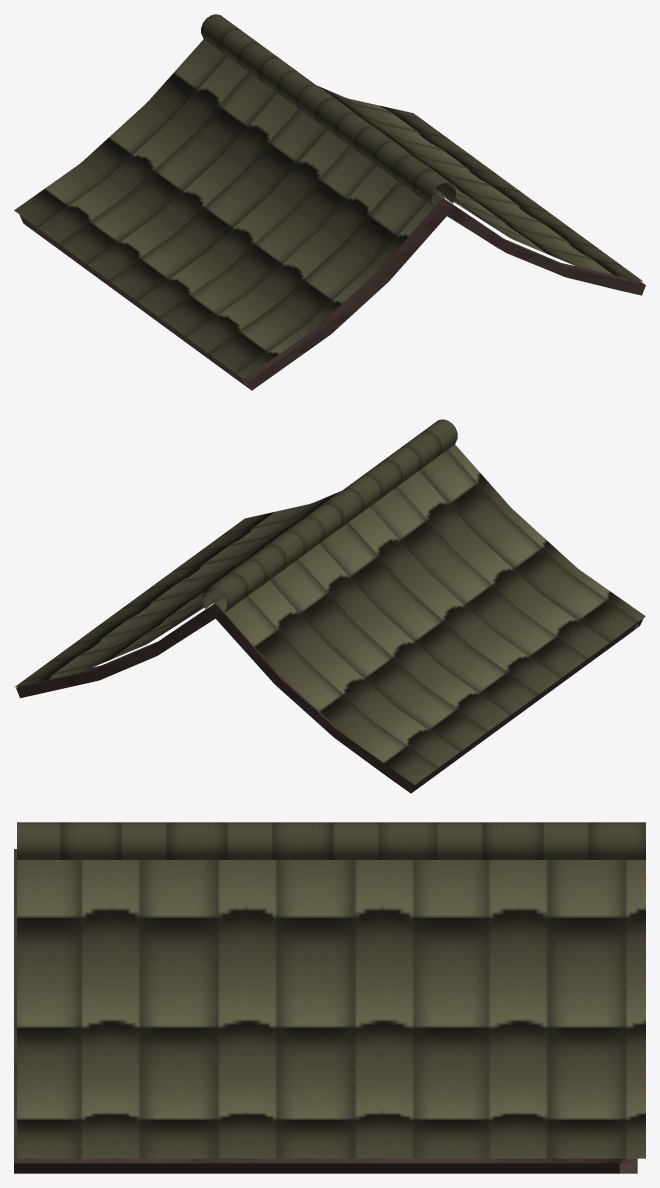
The model's file is NNJ0510062.fbx.
3 views of the same model, one above another, from view 1: azimuth 30°, elevation 25°; view 2: azimuth 150°, elevation 25°; view 3: azimuth 270°, elevation 25° (orthographic). The views are drawn at different scales.
Parts seen in each view (by area): view 1: smNNJ0510062; view 2: smNNJ0510062; view 3: smNNJ0510062.
Boxes of the visible parts, x1,y1,x2,y2 form: smNNJ0510062: [14, 14, 645, 390]; smNNJ0510062: [14, 419, 645, 793]; smNNJ0510062: [14, 822, 645, 1173].
Bounding box in the file's own units: 319 × 121 × 319.
Materials: 1 (1 with a texture image).
